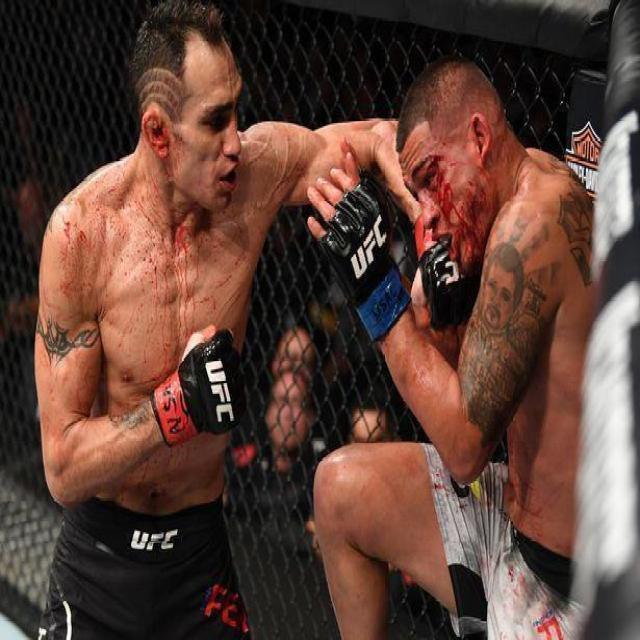flood: (147, 206, 216, 322), (436, 171, 476, 234)
